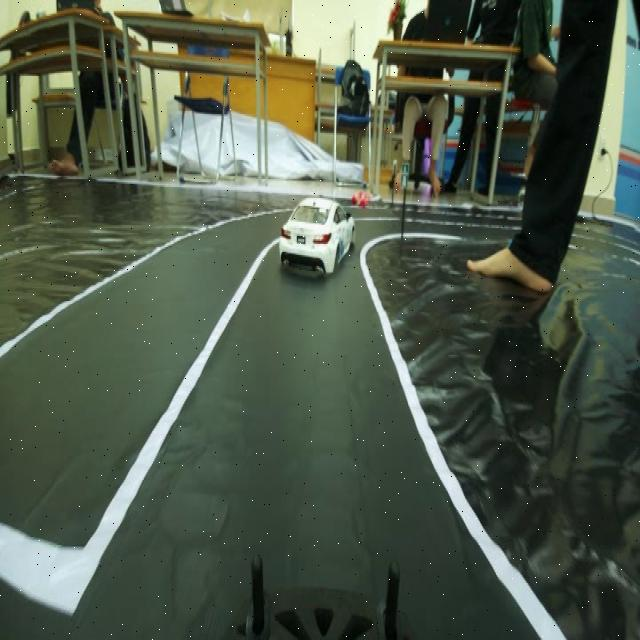car: (273, 177, 356, 279)
